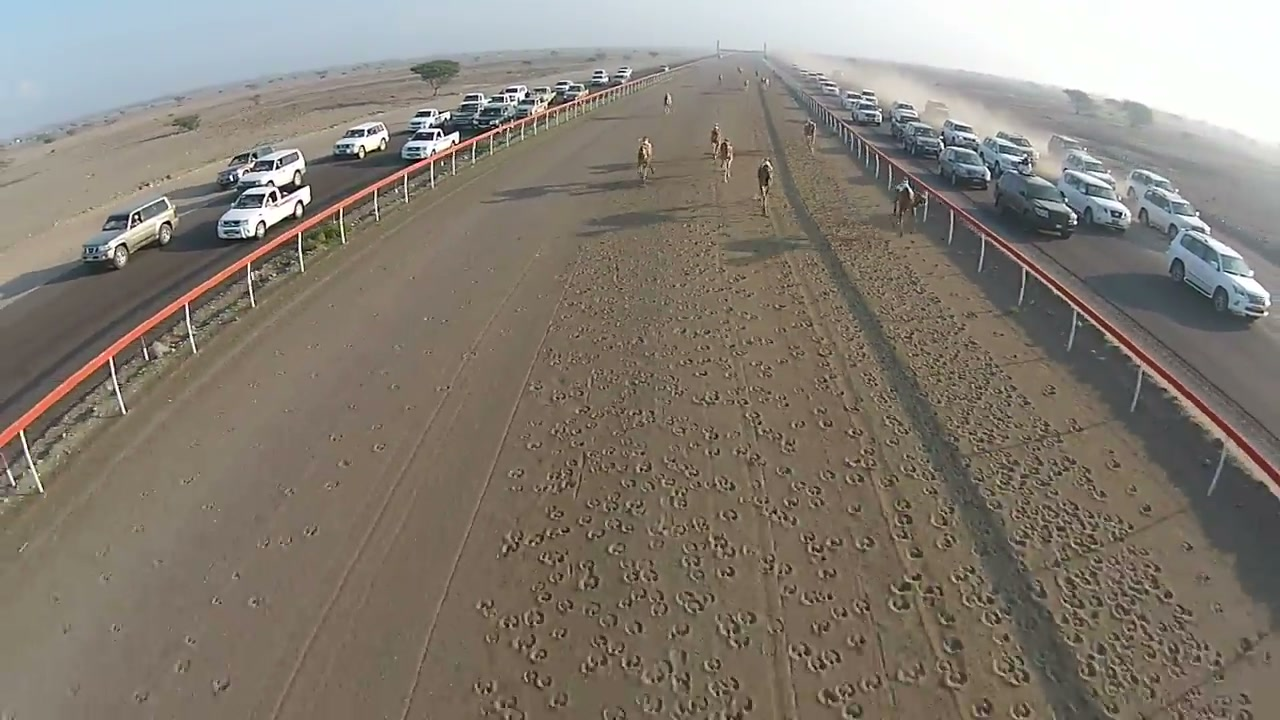animal_footprint: (416, 93, 1224, 719), (784, 140, 1255, 716), (465, 228, 805, 718)
